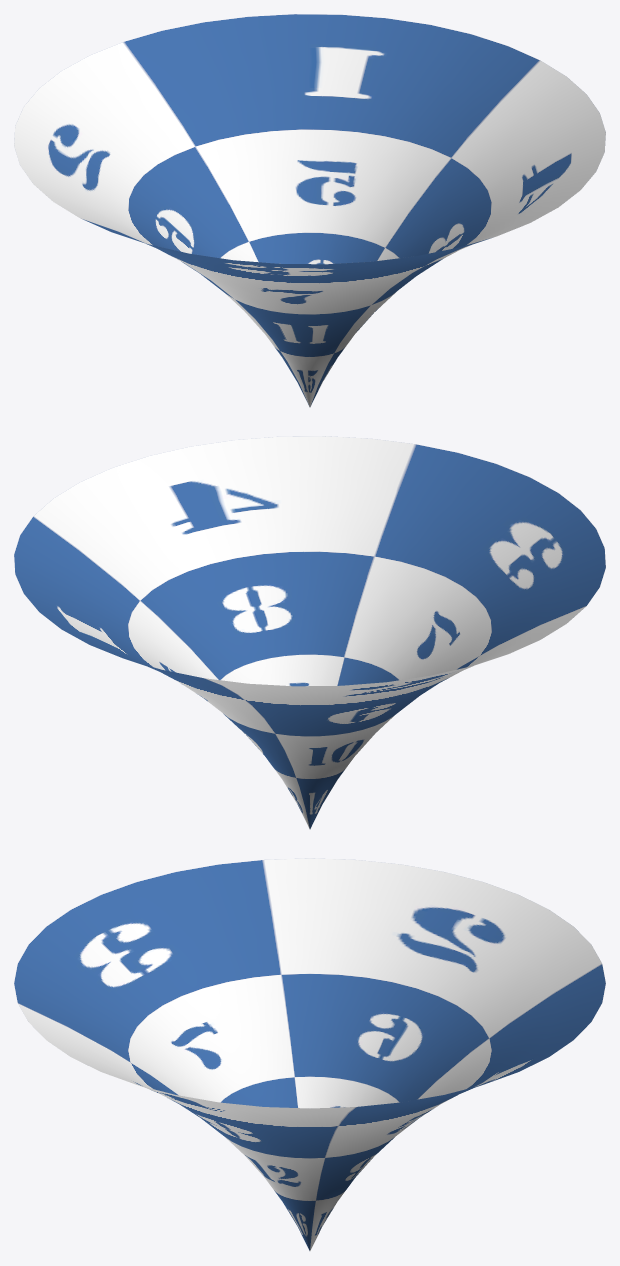
The model's file is Rui_Spl_Cone01.fbx.
The picture shows the model from 3 angles, top to bottom: view 1: azimuth 30°, elevation 25°; view 2: azimuth 150°, elevation 25°; view 3: azimuth 270°, elevation 25°; orthographic projection.
Parts seen in each view (by area): view 1: SM_d_e_P1007_V00_C00_SplKrt_Cone_01; view 2: SM_d_e_P1007_V00_C00_SplKrt_Cone_01; view 3: SM_d_e_P1007_V00_C00_SplKrt_Cone_01.
Part boxes in pixels (box(x1,y1,x2,y2)): SM_d_e_P1007_V00_C00_SplKrt_Cone_01: box(14, 14, 605, 407); SM_d_e_P1007_V00_C00_SplKrt_Cone_01: box(14, 436, 605, 829); SM_d_e_P1007_V00_C00_SplKrt_Cone_01: box(14, 858, 605, 1250).
Bounding box in the file's own units: 200 × 100 × 200.
